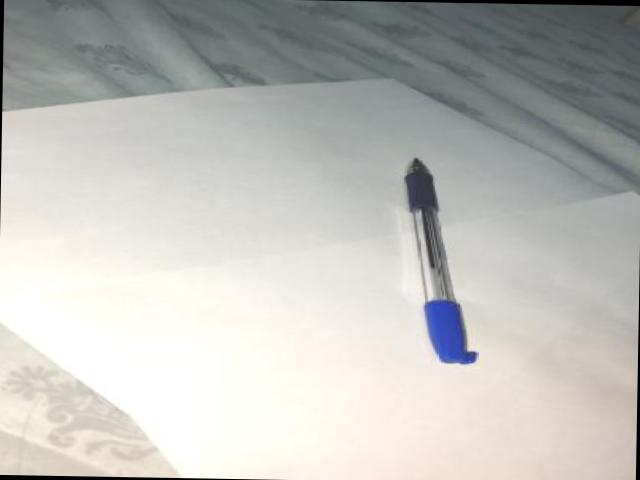PEN: (386, 151, 484, 378)
